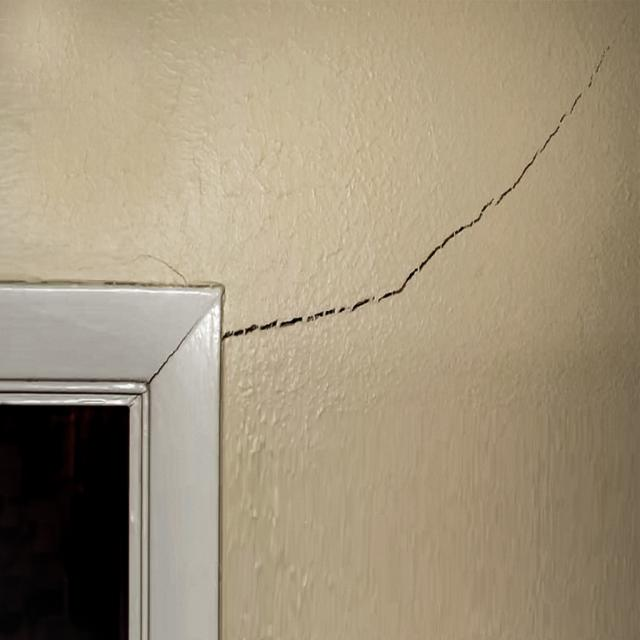Crack: (226, 22, 621, 335)
